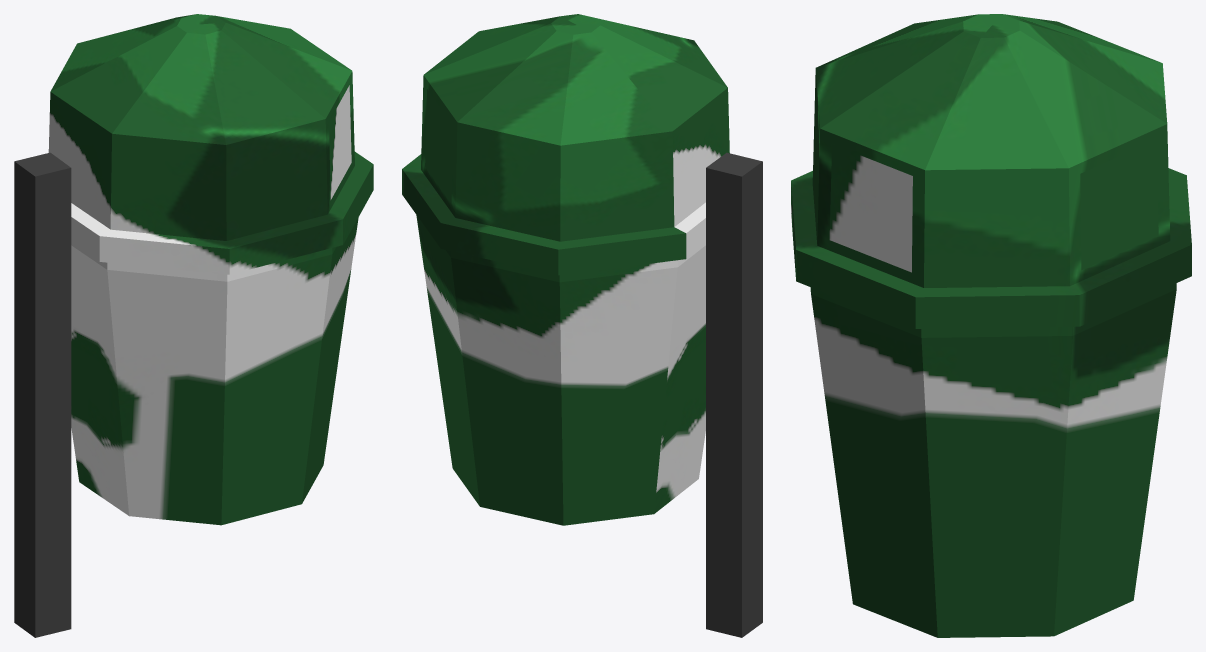
The model's file is GreenBin pieces.fbx.fbx.
The picture shows the model from 3 angles, left to right: view 1: azimuth 30°, elevation 25°; view 2: azimuth 150°, elevation 25°; view 3: azimuth 270°, elevation 25°; orthographic projection. The views are drawn at different scales.
Visible parts, largest first — view 1: polySurface87, polySurface88; view 2: polySurface87, polySurface88; view 3: polySurface87.
Boxes of the visible parts, box(x1,y1,x2,y2) form: polySurface87: box(48, 14, 373, 525); polySurface88: box(14, 152, 71, 637); polySurface87: box(402, 14, 729, 525); polySurface88: box(706, 152, 762, 637); polySurface87: box(791, 14, 1191, 637).
Bounding box in the file's own units: 1.25 × 2.11 × 1.11.
